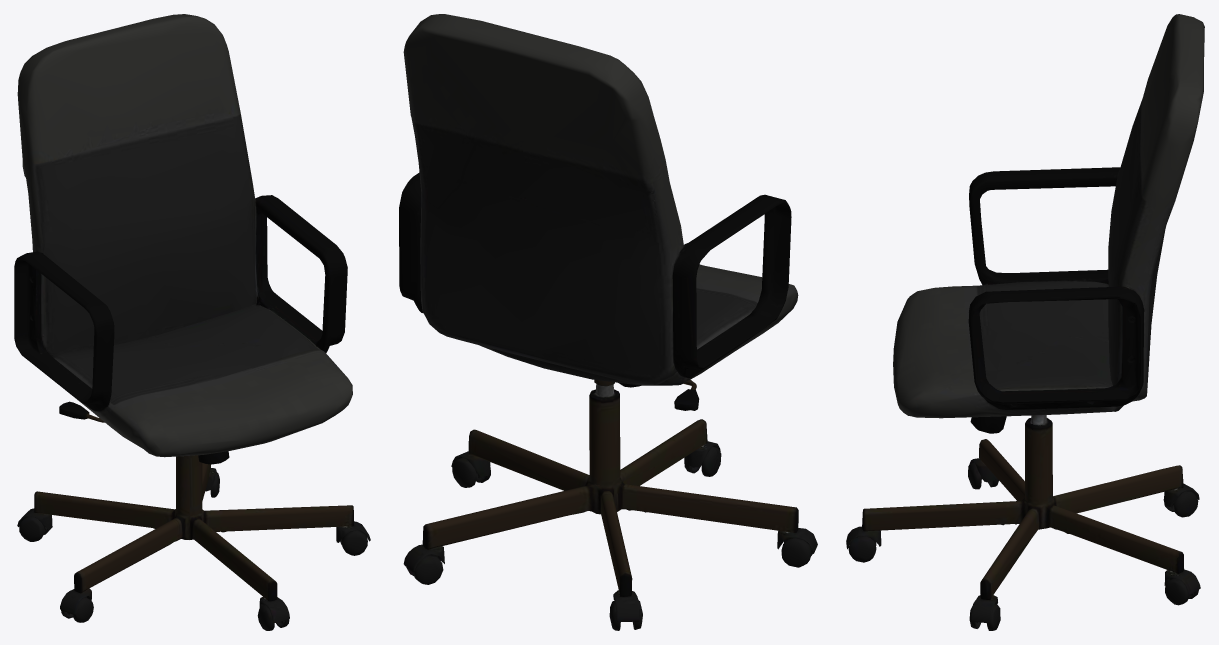
Rendered from 17 - RENBERGET Swivel chair - Bomstad black.glb.
3 views of the same model, side by side, from view 1: azimuth 30°, elevation 25°; view 2: azimuth 150°, elevation 25°; view 3: azimuth 270°, elevation 25° (orthographic). The views are drawn at different scales.
Visible parts, largest first — view 1: 60493546-RENBERGET001; view 2: 60493546-RENBERGET001; view 3: 60493546-RENBERGET001.
Part boxes in pixels (x1,y1,x2,y2): 60493546-RENBERGET001: (14, 14, 370, 630); 60493546-RENBERGET001: (399, 14, 817, 630); 60493546-RENBERGET001: (846, 14, 1204, 630).
Size of the model in its own units: 0.678 by 1.03 by 0.6535.
1 material, 1 textured.
